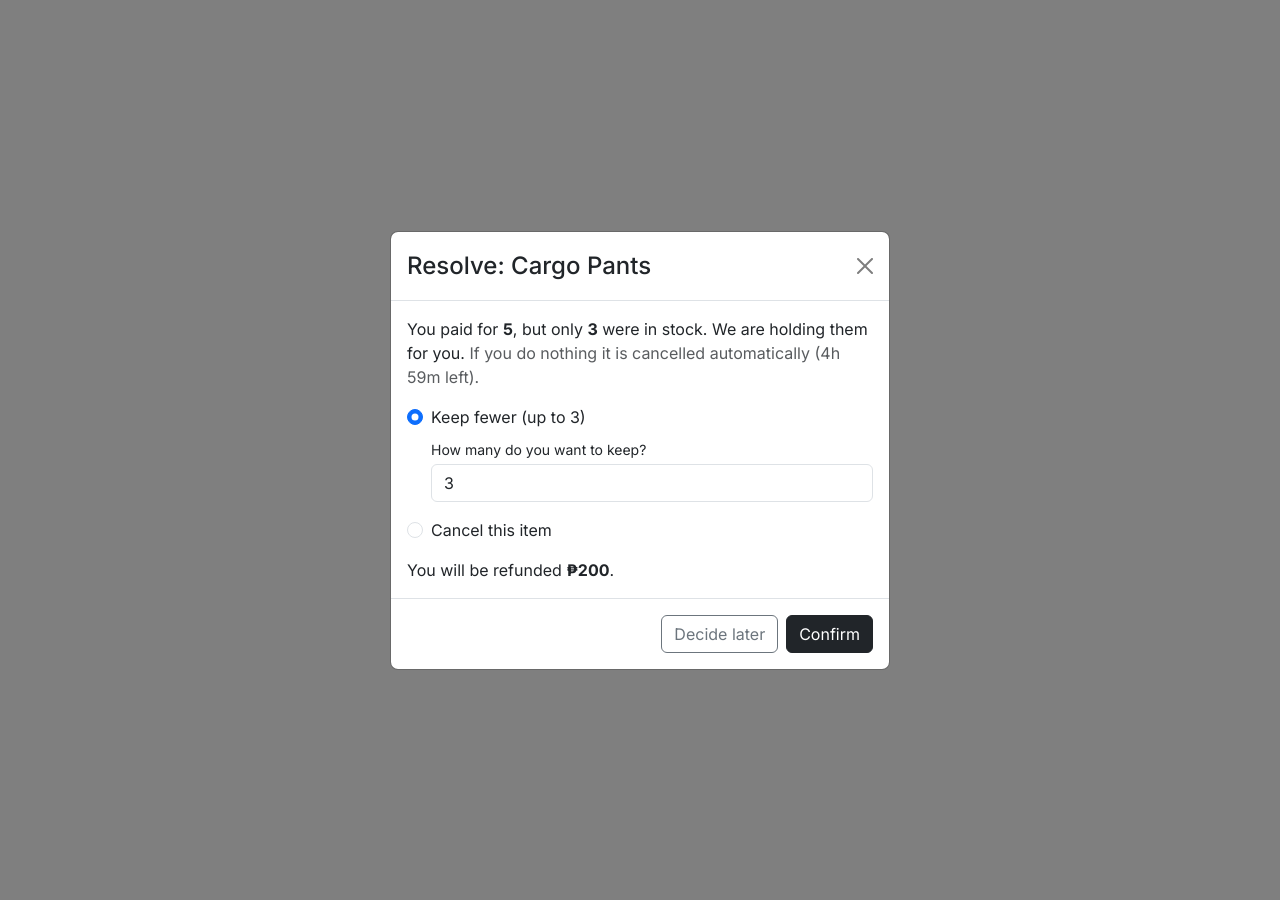
the preview follows the number to keep
Step 1. Replace the text in the number field labelled "How many do you want to keep?" with "1" → [652, 482], box [431,464,873,502]
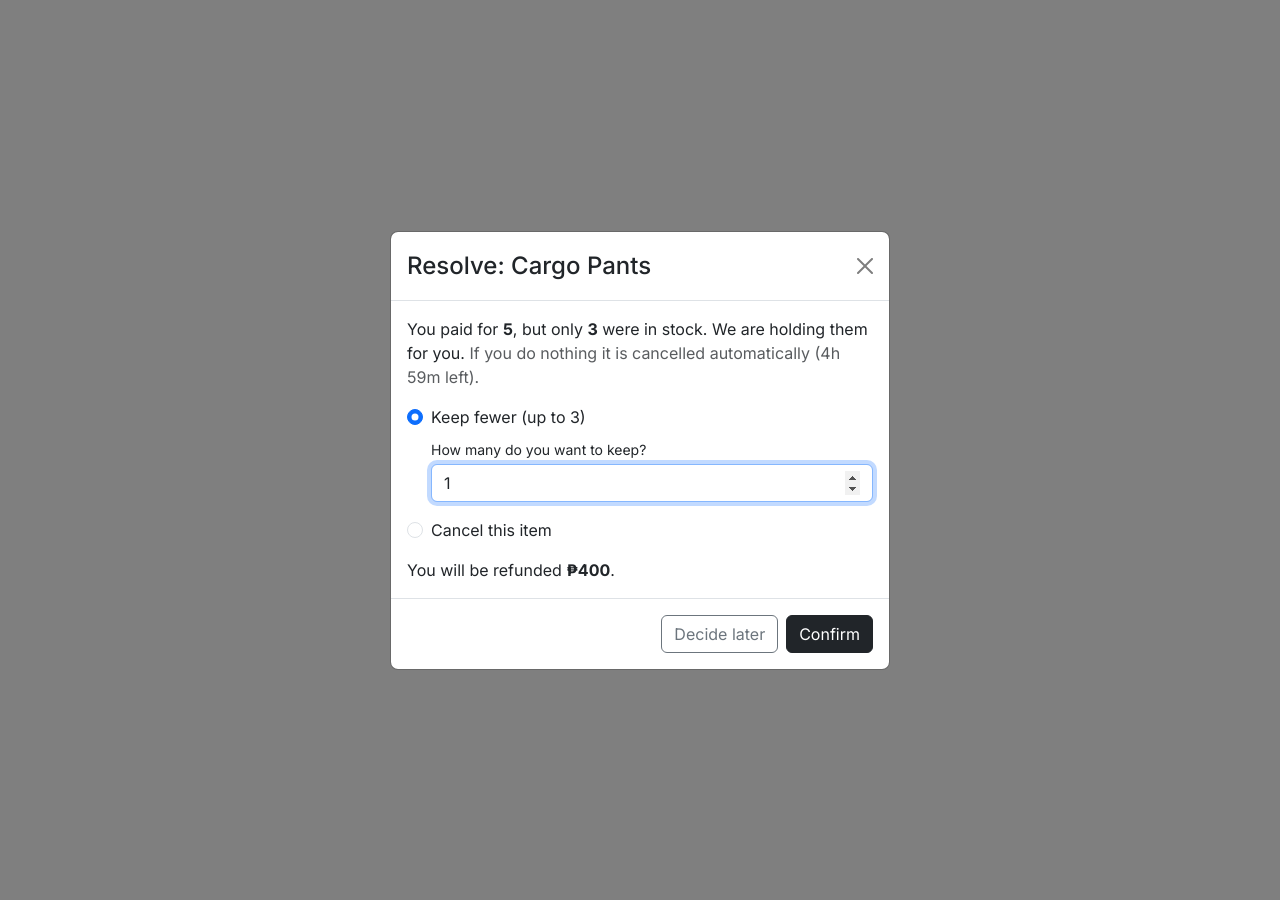
Expected: the text "You will be refunded ₱400." is shown, [407,560,615,580]
